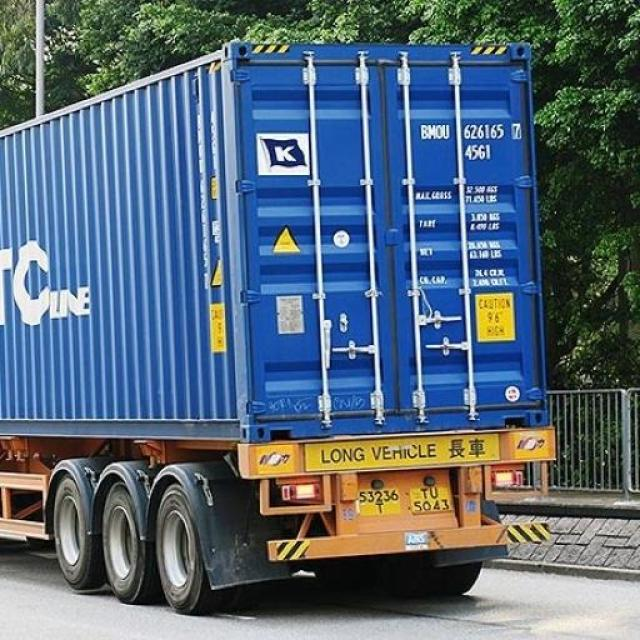ISO: (464, 144, 493, 161)
container_number: (419, 122, 522, 142)
